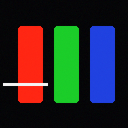3 line_h: (3, 83, 47, 85)
